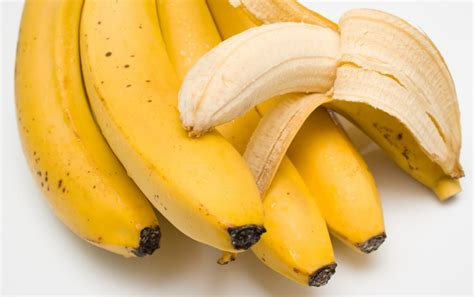banana: (69, 1, 268, 256), (12, 1, 167, 264)
